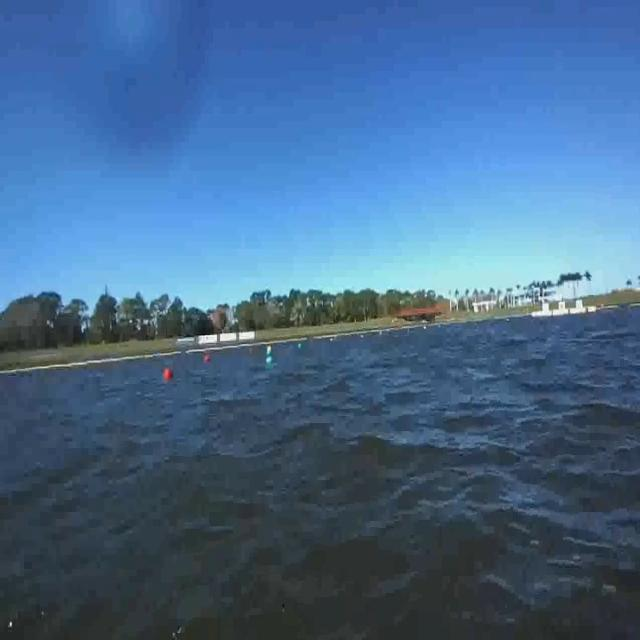green-buoy: (263, 351, 275, 373)
red-buoy: (163, 367, 170, 379)
